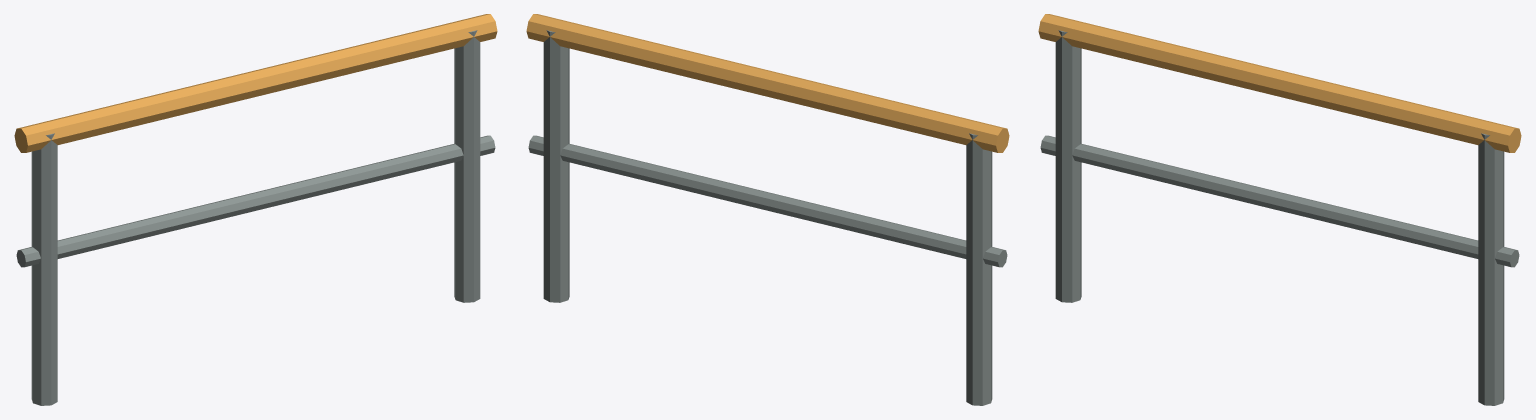
Rendered from prop_railing_2m.glb.
The picture shows the model from 3 angles, left to right: view 1: azimuth 30°, elevation 25°; view 2: azimuth 150°, elevation 25°; view 3: azimuth 330°, elevation 25°; orthographic projection.
Parts seen in each view (by area): view 1: prop_railing_2m; view 2: prop_railing_2m; view 3: prop_railing_2m.
Boxes of the visible parts, bbox=[...] form: prop_railing_2m: bbox=[14, 14, 497, 405]; prop_railing_2m: bbox=[526, 14, 1009, 405]; prop_railing_2m: bbox=[1038, 14, 1521, 405].
Size of the model in its own units: 2 by 1.13 by 0.1.
